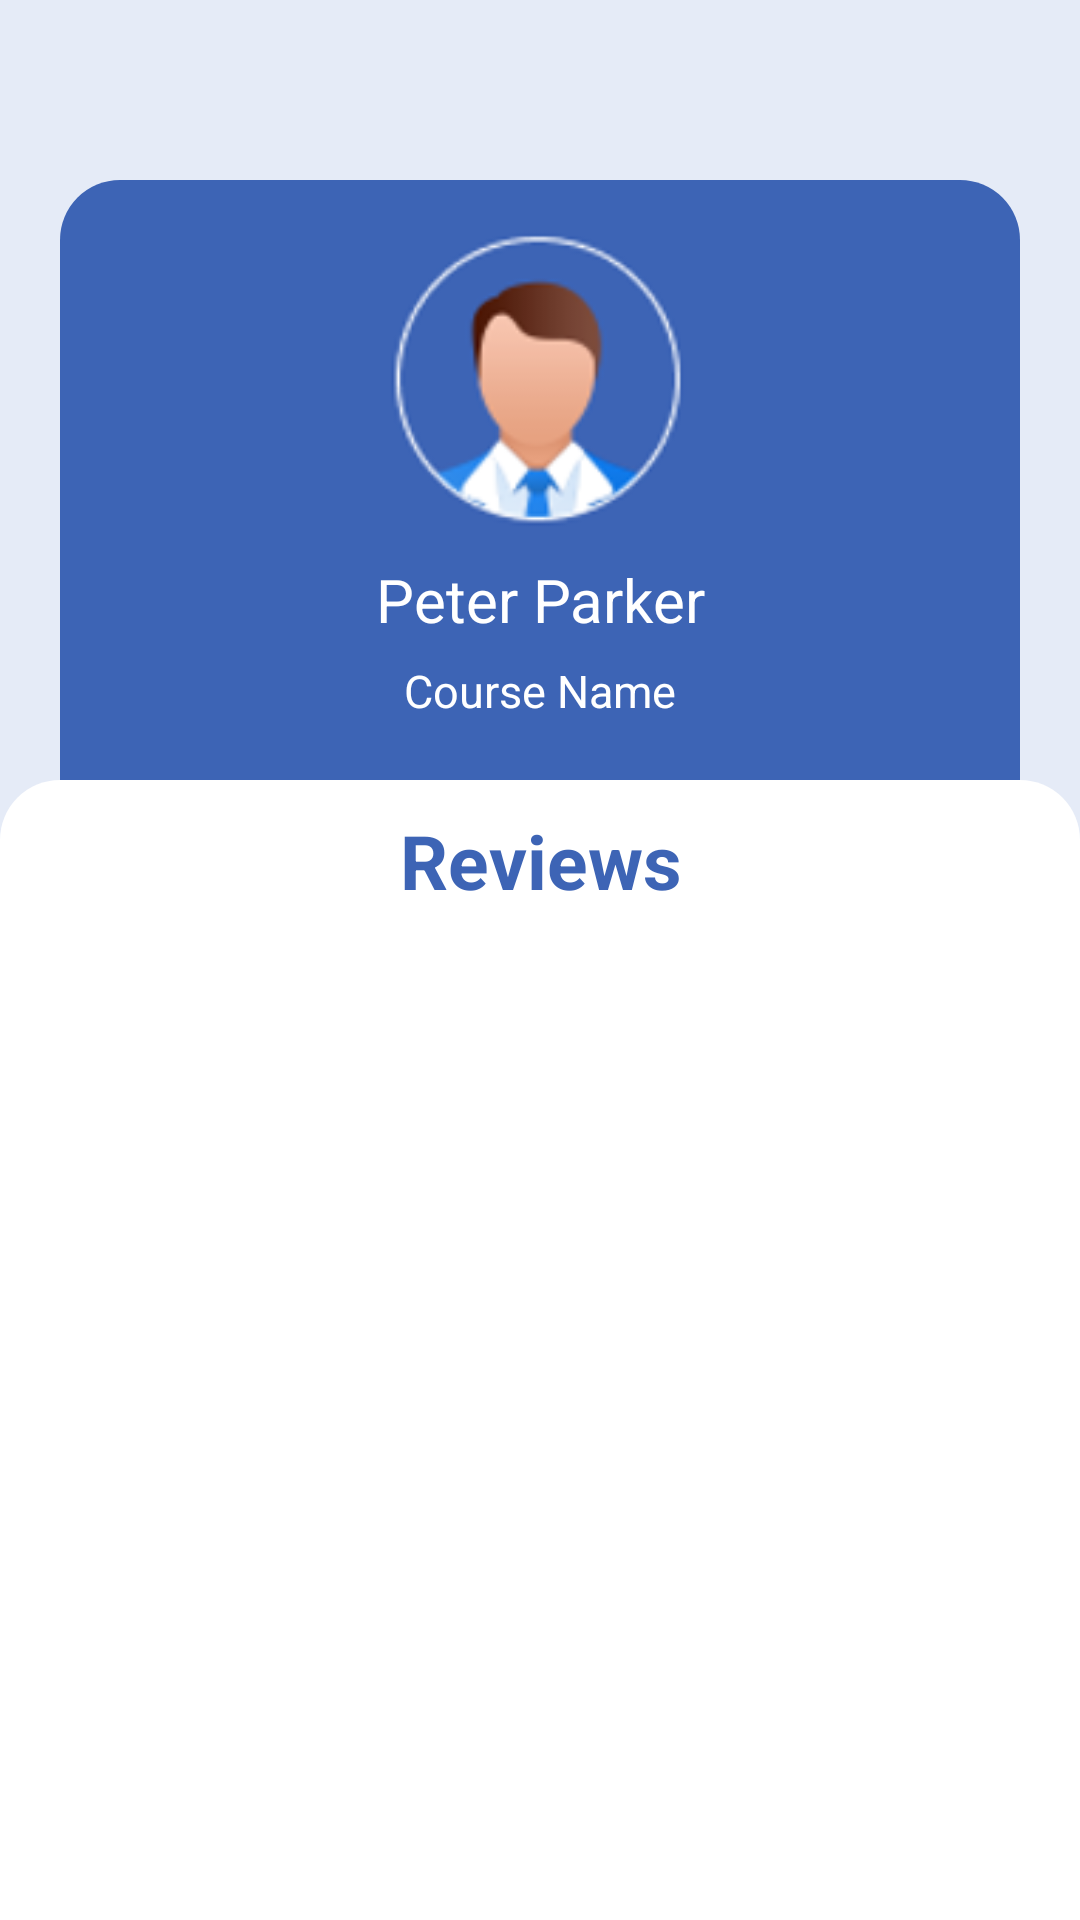

Icons on this 1080px×1920px Android screen, each with its box as (x1, y1, x2, y2):
teacher: (394, 236, 681, 523)
